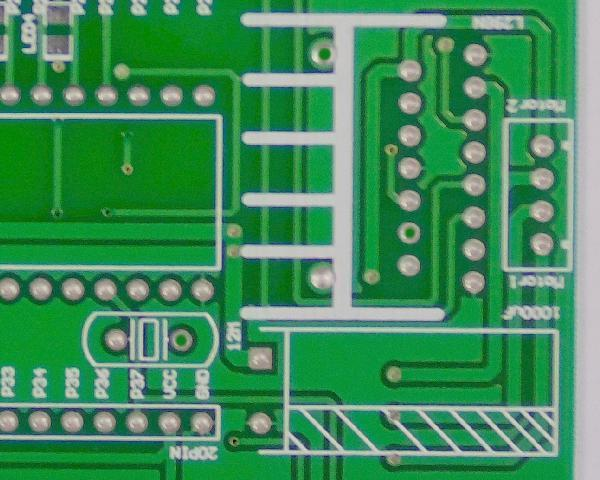missing hole: (310, 34, 342, 74), (167, 324, 197, 357), (395, 218, 423, 247)
